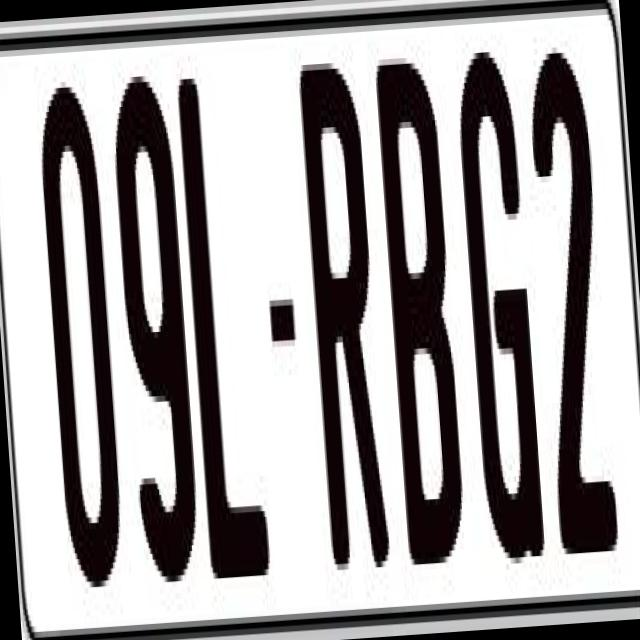0: (31, 85, 124, 606)
2: (522, 45, 622, 566)
9: (105, 62, 203, 578)
B: (370, 43, 470, 570)
G: (454, 44, 552, 576)
L: (174, 63, 276, 590)
R: (292, 49, 394, 594)
